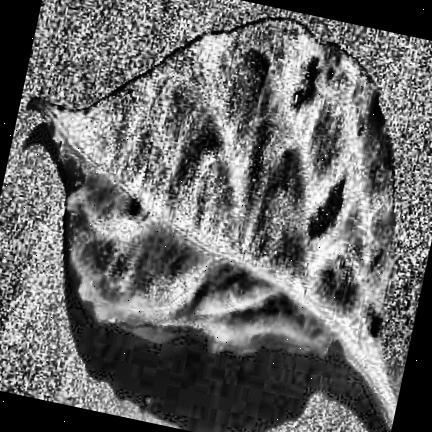leaf: (32, 18, 396, 429)
